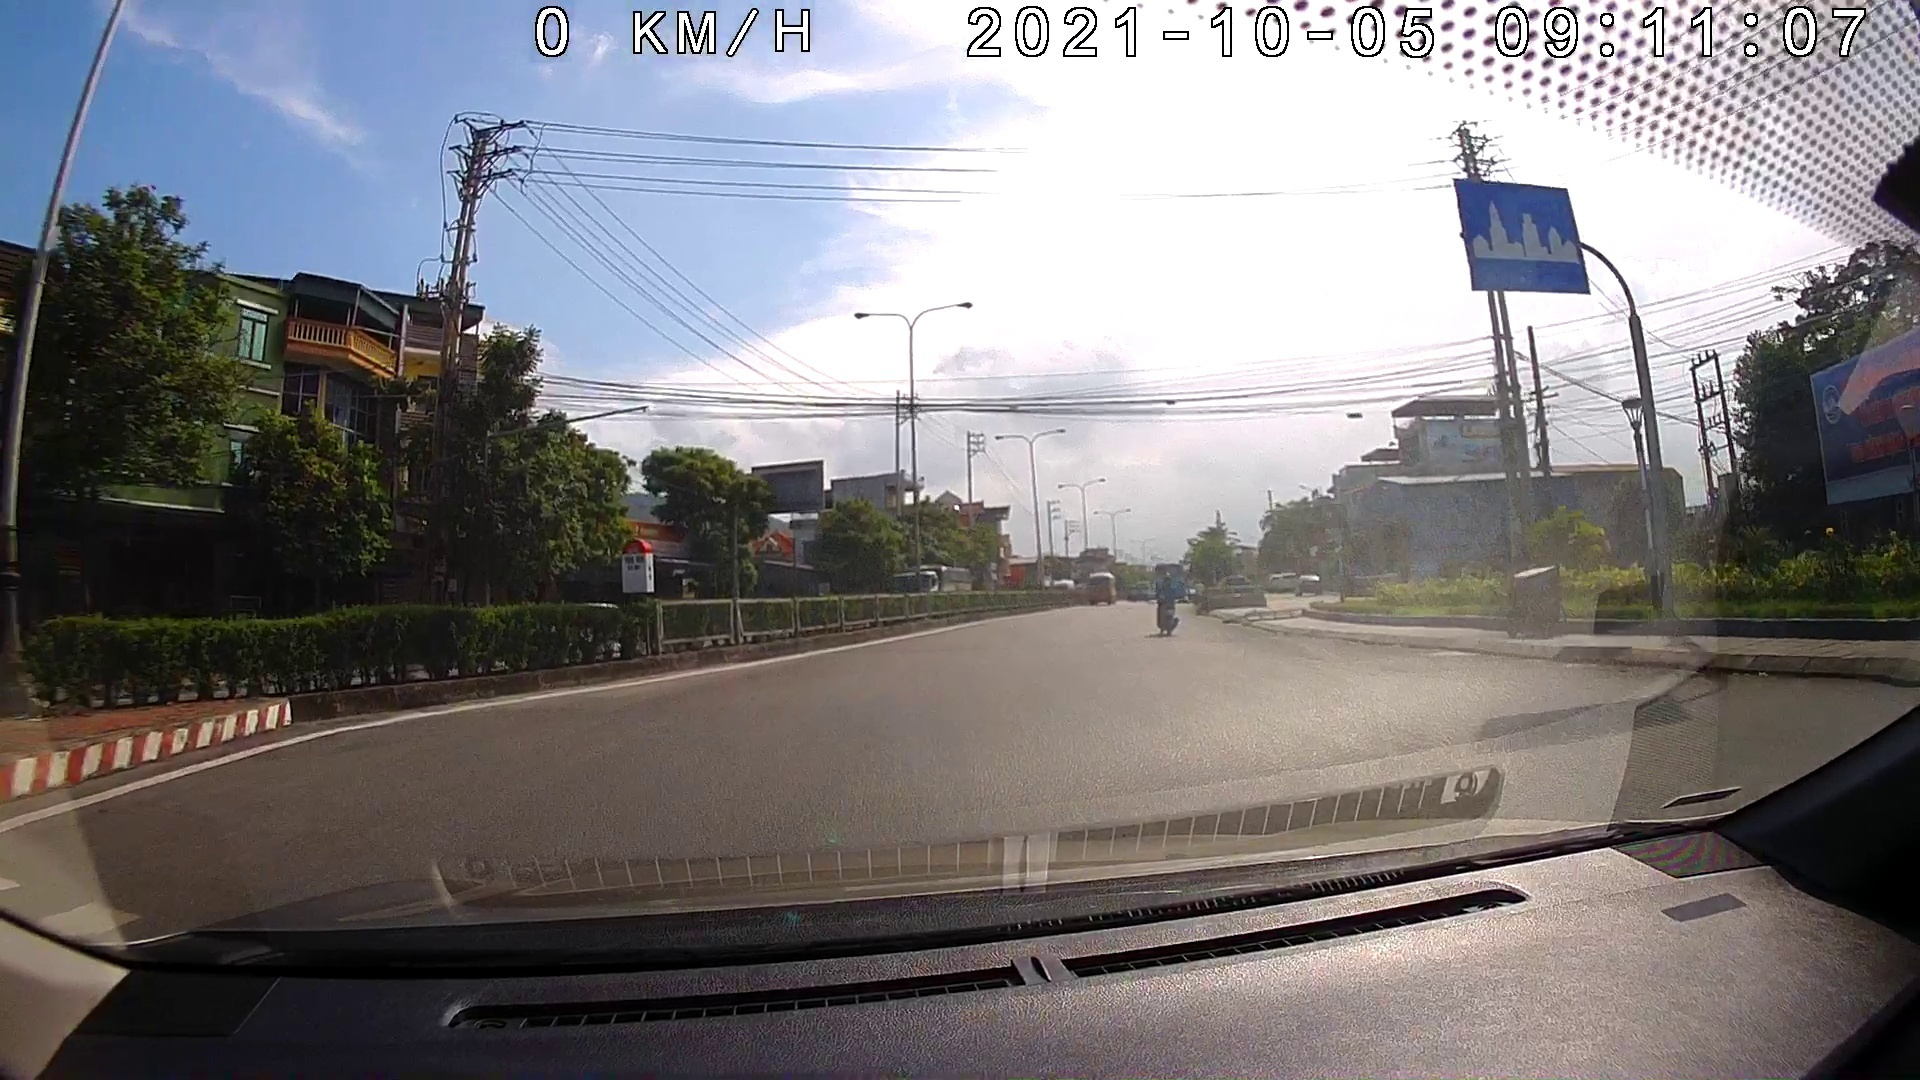Bien khac: (1453, 179, 1589, 294)
